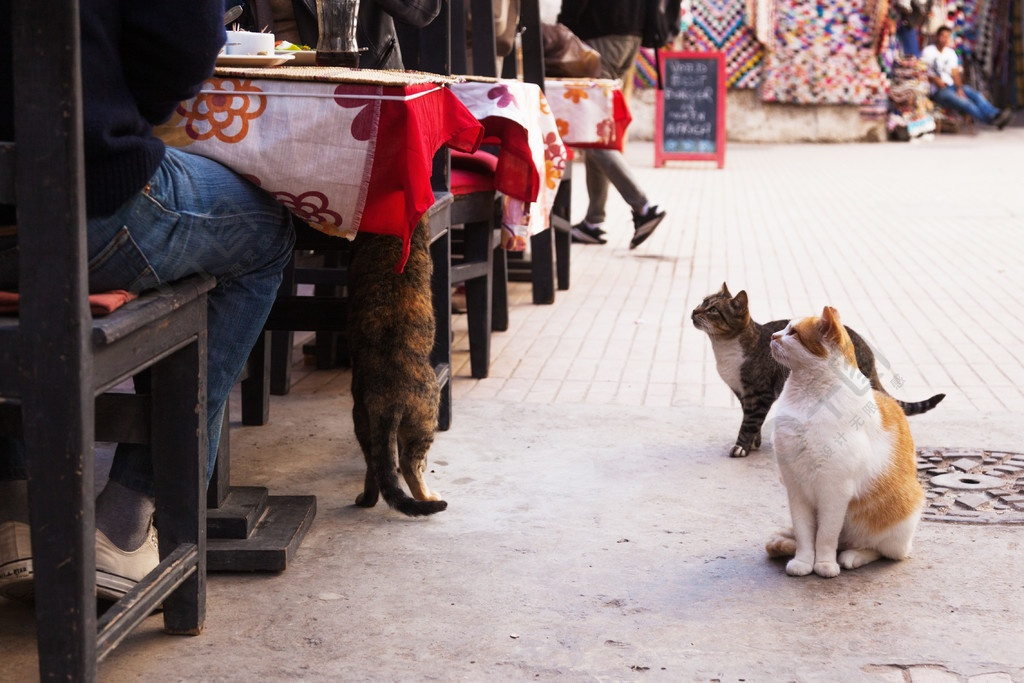cat: (690, 279, 944, 458), (768, 306, 925, 580), (350, 206, 446, 518)
